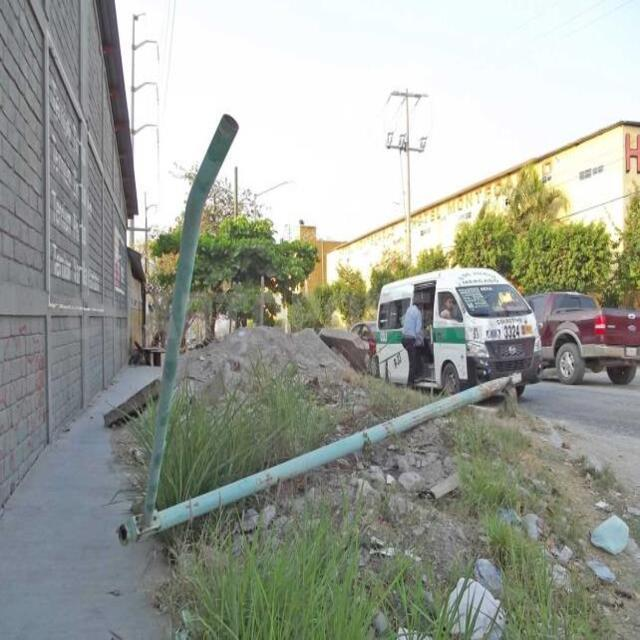Inclined Pole: (108, 104, 525, 550)
